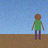person: (32, 14, 44, 39)
